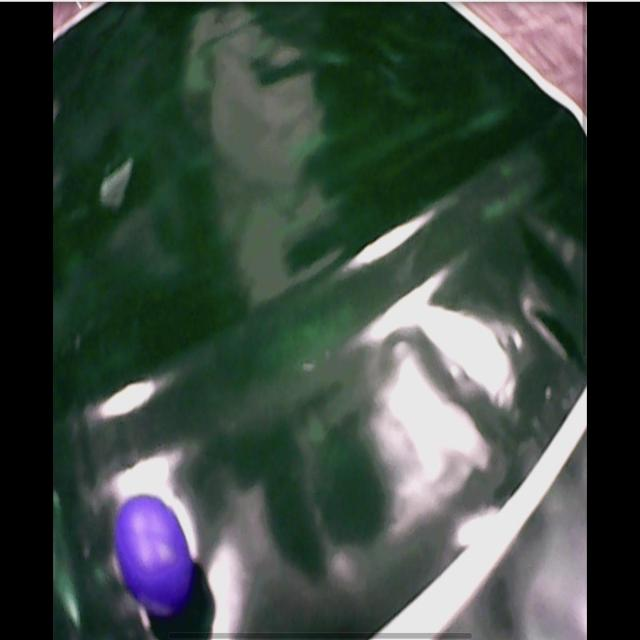ball: (116, 494, 194, 614)
